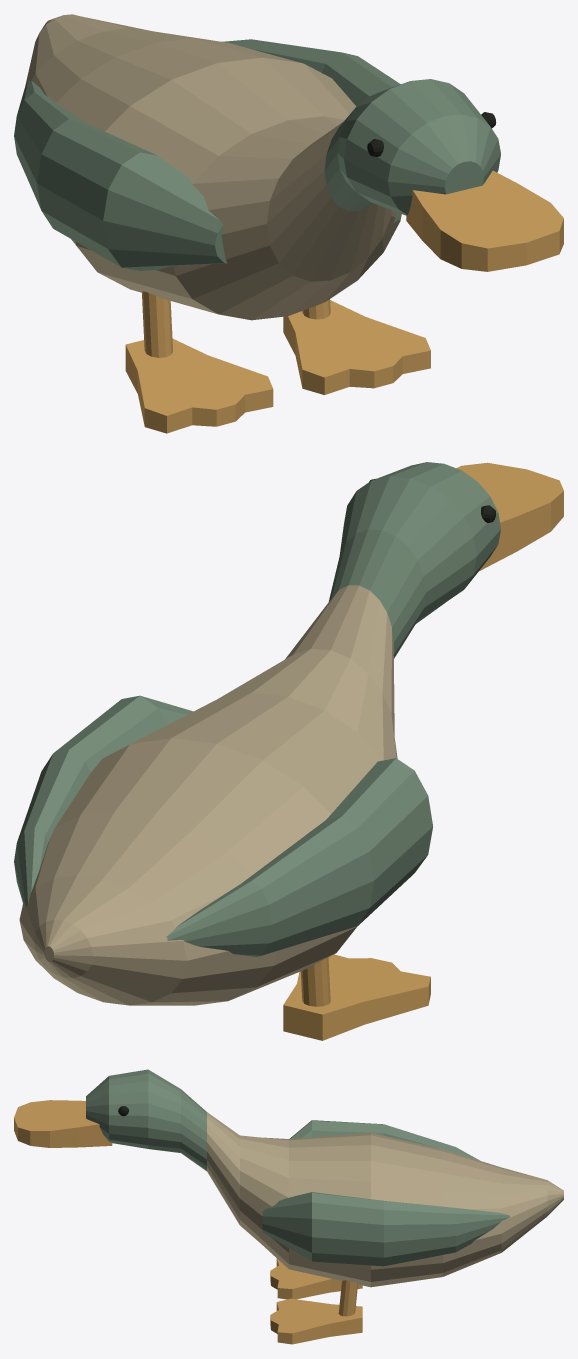
3 views of the same model, one above another, from view 1: azimuth 30°, elevation 25°; view 2: azimuth 150°, elevation 25°; view 3: azimuth 270°, elevation 25° (orthographic). The views are drawn at different scales.
Parts seen in each view (by area): view 1: WholeLowBodyShortNeckRoundedHeadAndTail, WholeSideFoldedWing0, WholeBroadFlatRoundedBill, WholeBroadShallowWebFoot0, WholeBroadShallowWebFoot1, WholeSideFoldedWing1, WholeShortWaterfowlLeg0; view 2: WholeLowBodyShortNeckRoundedHeadAndTail, WholeSideFoldedWing0, WholeSideFoldedWing1, WholeBroadShallowWebFoot0, WholeBroadFlatRoundedBill, WholeShortWaterfowlLeg0; view 3: WholeLowBodyShortNeckRoundedHeadAndTail, WholeSideFoldedWing1, WholeBroadFlatRoundedBill, WholeBroadShallowWebFoot1, WholeSideFoldedWing0, WholeBroadShallowWebFoot0, WholeShortWaterfowlLeg1.
Boxes of the visible parts, <box> form: WholeLowBodyShortNeckRoundedHeadAndTail: <box>25,14,500,320</box>; WholeSideFoldedWing0: <box>14,81,227,270</box>; WholeBroadFlatRoundedBill: <box>406,170,563,271</box>; WholeBroadShallowWebFoot0: <box>125,339,273,433</box>; WholeBroadShallowWebFoot1: <box>283,300,430,394</box>; WholeSideFoldedWing1: <box>222,39,401,222</box>; WholeShortWaterfowlLeg0: <box>141,291,172,357</box>; WholeLowBodyShortNeckRoundedHeadAndTail: <box>19,462,500,1005</box>; WholeSideFoldedWing0: <box>166,758,432,956</box>; WholeSideFoldedWing1: <box>14,695,193,906</box>; WholeBroadShallowWebFoot0: <box>283,954,430,1040</box>; WholeBroadFlatRoundedBill: <box>456,462,563,571</box>; WholeShortWaterfowlLeg0: <box>300,957,330,1006</box>; WholeLowBodyShortNeckRoundedHeadAndTail: <box>86,1069,563,1287</box>; WholeSideFoldedWing1: <box>262,1192,509,1266</box>; WholeBroadFlatRoundedBill: <box>14,1100,112,1147</box>; WholeBroadShallowWebFoot1: <box>270,1298,362,1344</box>; WholeSideFoldedWing0: <box>289,1120,479,1160</box>; WholeBroadShallowWebFoot0: <box>270,1258,362,1299</box>; WholeShortWaterfowlLeg1: <box>338,1280,357,1316</box>.
Size of the model in its own units: 0.684 by 0.78 by 1.68.
